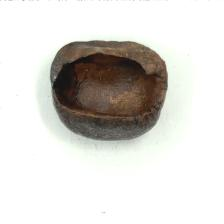NG: (50, 39, 165, 121)
